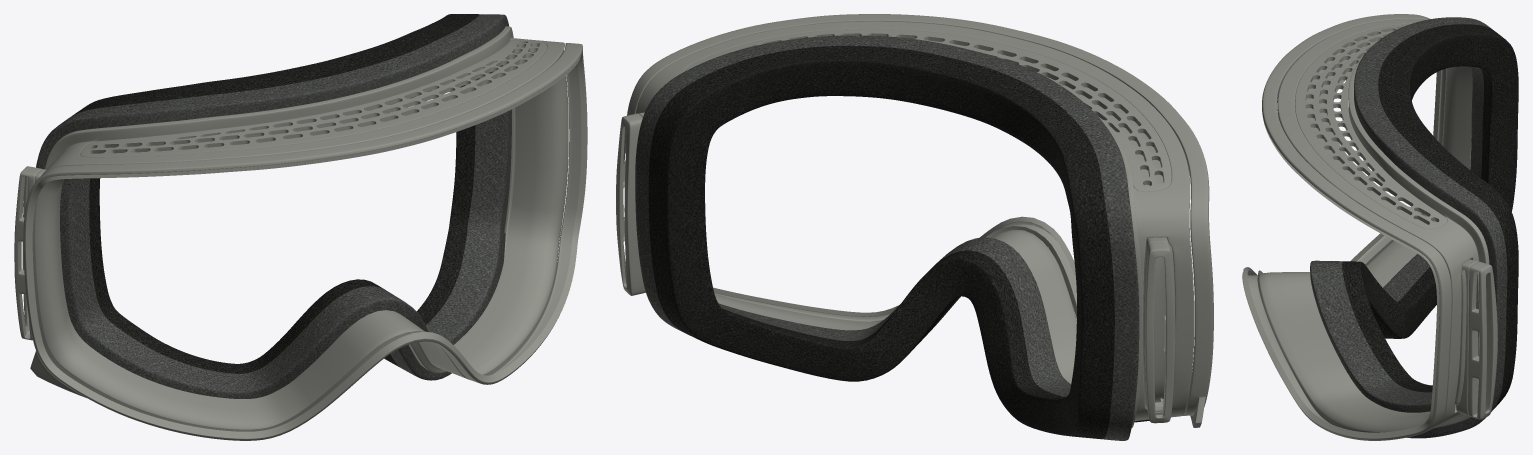
Rendered from FRAME_XPR_MOEX029_002.glb.
3 renders of one model, left to right at view 1: azimuth 30°, elevation 25°; view 2: azimuth 150°, elevation 25°; view 3: azimuth 270°, elevation 25°, orthographic. The views are drawn at different scales.
Visible parts, largest first — view 1: Full_rim_geometry, Frame-Add_Frame-02_geometry_geometry, Frame-Add_Frame-01_geometry_geometry, EXTRA_RIM_BEVEL; view 2: Frame-Add_Frame-02_geometry_geometry, Full_rim_geometry, Frame-Add_Frame-01_geometry_geometry, EXTRA_RIM_BEVEL; view 3: Full_rim_geometry, Frame-Add_Frame-02_geometry_geometry, Frame-Add_Frame-01_geometry_geometry, EXTRA_RIM_BEVEL.
Part boxes in pixels (bbox=[...]): Full_rim_geometry: bbox=[14, 26, 587, 440]; Frame-Add_Frame-02_geometry_geometry: bbox=[36, 14, 511, 398]; Frame-Add_Frame-01_geometry_geometry: bbox=[80, 39, 547, 157]; EXTRA_RIM_BEVEL: bbox=[27, 55, 586, 436]; Frame-Add_Frame-02_geometry_geometry: bbox=[635, 35, 1149, 440]; Full_rim_geometry: bbox=[616, 14, 1213, 427]; Frame-Add_Frame-01_geometry_geometry: bbox=[685, 28, 1171, 191]; EXTRA_RIM_BEVEL: bbox=[713, 216, 1076, 316]; Full_rim_geometry: bbox=[1242, 14, 1497, 440]; Frame-Add_Frame-02_geometry_geometry: bbox=[1310, 17, 1518, 438]; Frame-Add_Frame-01_geometry_geometry: bbox=[1295, 23, 1447, 228]; EXTRA_RIM_BEVEL: bbox=[1243, 70, 1441, 437].
Bounding box in the file's own units: 0.1788 × 0.0982 × 0.0841.
Materials: 1 (1 with a texture image).
